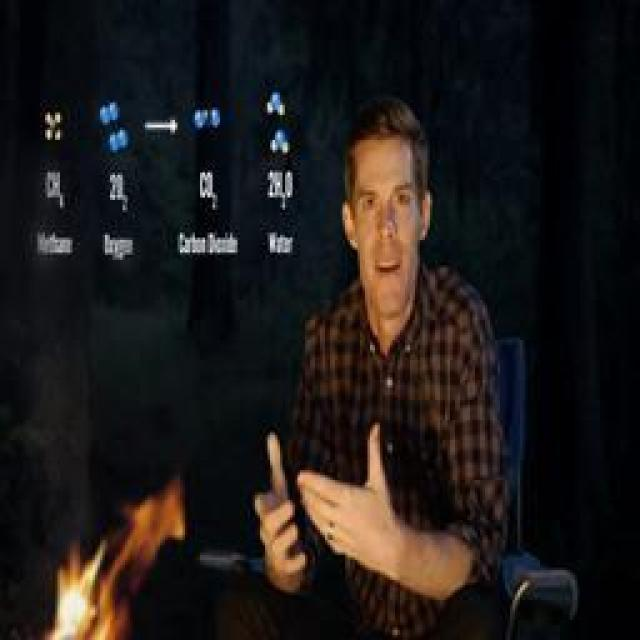Fire: (48, 482, 188, 640)
